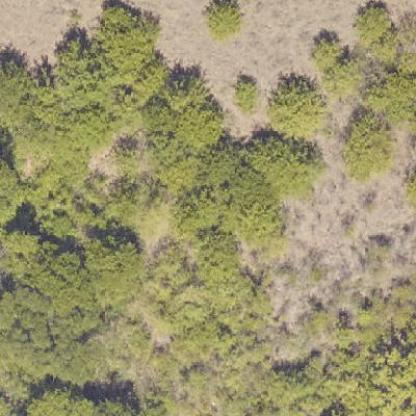tree-top: (97, 2, 161, 85), (263, 70, 333, 141), (247, 132, 322, 195), (81, 224, 148, 291), (340, 110, 394, 179), (313, 36, 360, 92), (21, 382, 94, 415), (354, 1, 390, 40), (203, 3, 243, 38), (232, 74, 261, 114)
